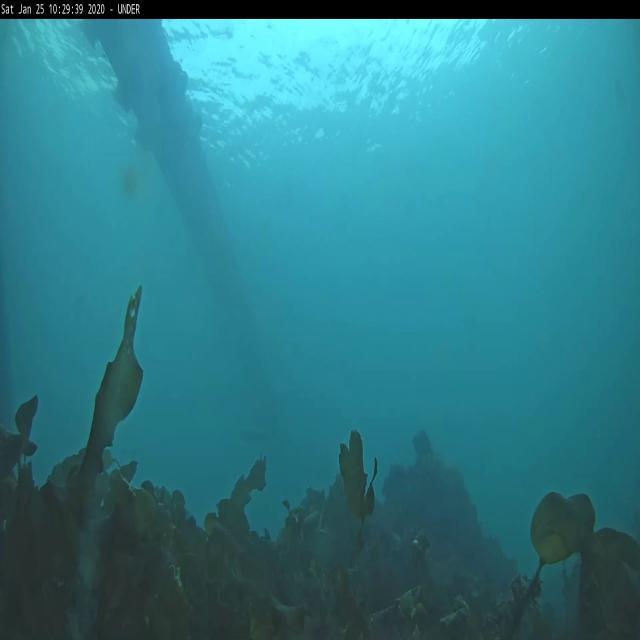fish: (412, 430, 434, 454)
